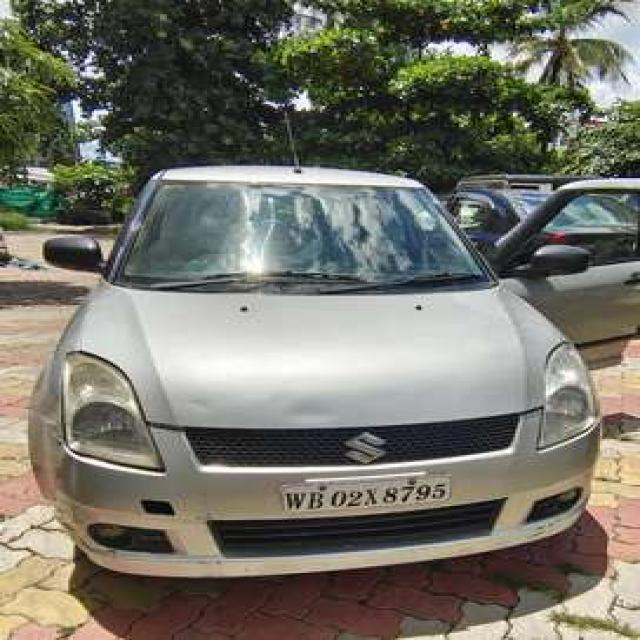Plate: (279, 472, 448, 514)
